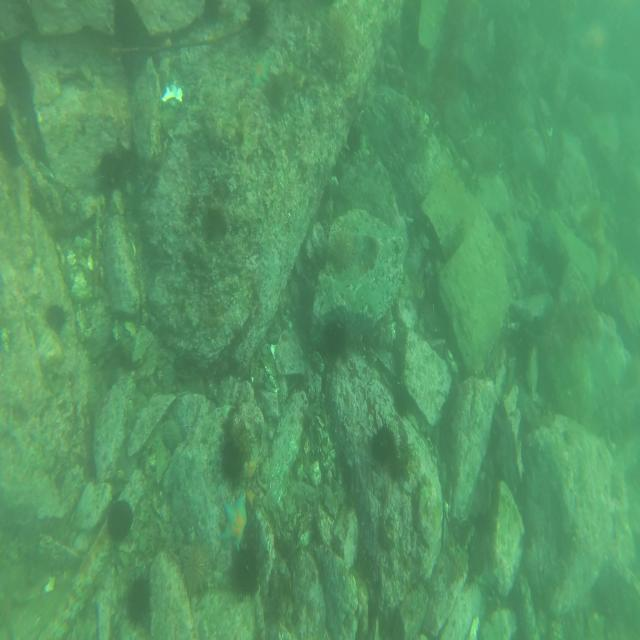echinus: (178, 535, 212, 601), (366, 414, 401, 474), (322, 4, 357, 64), (230, 540, 260, 603), (123, 571, 153, 631), (104, 496, 137, 548), (218, 436, 248, 488), (322, 313, 350, 365), (98, 144, 124, 192), (42, 298, 69, 338), (328, 228, 354, 268), (246, 0, 270, 38)
scallop: (160, 83, 186, 111)
starfish: (217, 491, 248, 551), (246, 49, 274, 91)
